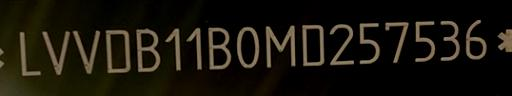letter: (262, 23, 300, 69), (40, 28, 72, 76), (70, 28, 102, 74), (132, 26, 162, 74), (102, 26, 132, 73), (381, 18, 409, 67), (326, 23, 356, 68), (410, 15, 438, 63), (204, 24, 232, 72), (233, 23, 261, 69), (15, 30, 43, 76), (356, 17, 382, 65), (300, 23, 326, 68), (464, 16, 488, 62), (438, 17, 462, 63), (183, 24, 205, 72), (164, 26, 182, 74)
